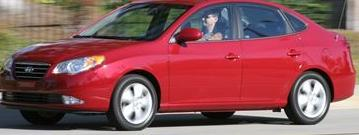front_view: (0, 50, 107, 112)
headlight: (51, 55, 106, 78)
side_glass: (168, 2, 309, 48)
